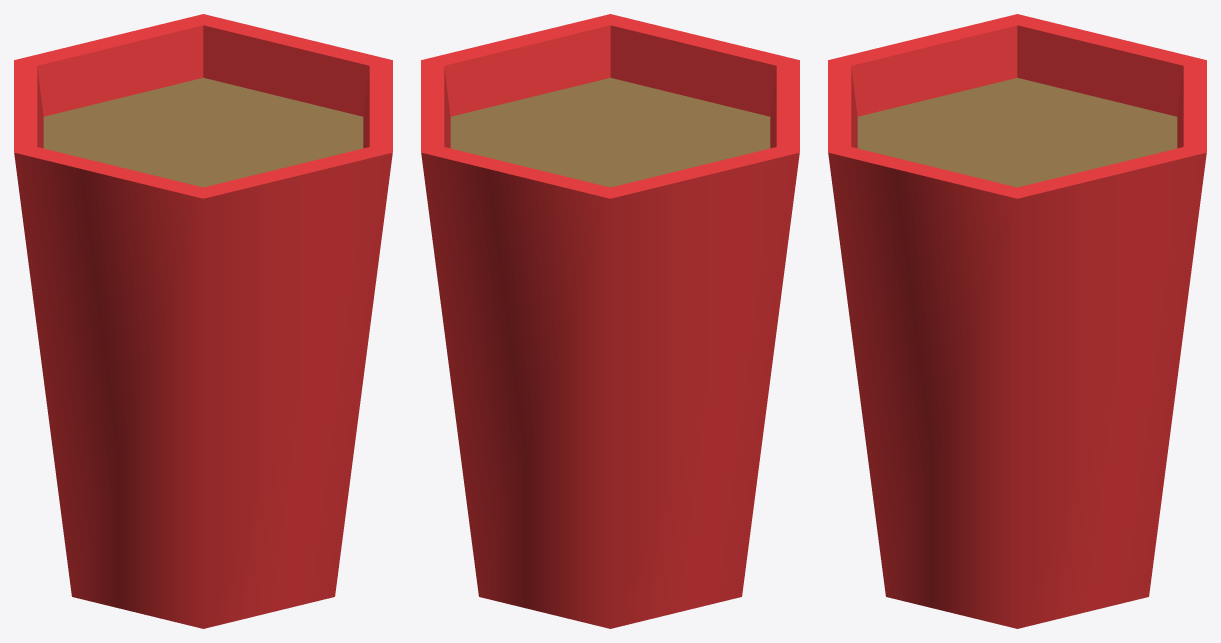
The model's file is Itr_Obj_Flowerpot2_Base_05.FBX.
3 renders of one model, left to right at view 1: azimuth 30°, elevation 25°; view 2: azimuth 150°, elevation 25°; view 3: azimuth 270°, elevation 25°, orthographic.
Parts seen in each view (by area): view 1: Itr_Obj_Flowerpot2_Base_05; view 2: Itr_Obj_Flowerpot2_Base_05; view 3: Itr_Obj_Flowerpot2_Base_05.
Part boxes in pixels (bbox=[...]): Itr_Obj_Flowerpot2_Base_05: bbox=[14, 14, 392, 628]; Itr_Obj_Flowerpot2_Base_05: bbox=[421, 14, 799, 628]; Itr_Obj_Flowerpot2_Base_05: bbox=[828, 14, 1206, 628].
Bounding box in the file's own units: 24 × 27.76 × 20.78.
